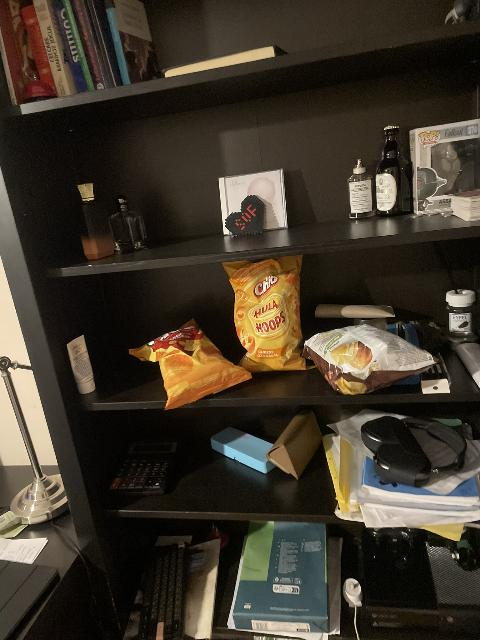Chio Cascaval 125g: (128, 321, 250, 408)
Chio Hula Hoops Cheese 70g: (220, 254, 309, 369)
Lays Beef Grilled Ribs 125g: (303, 324, 441, 396)
